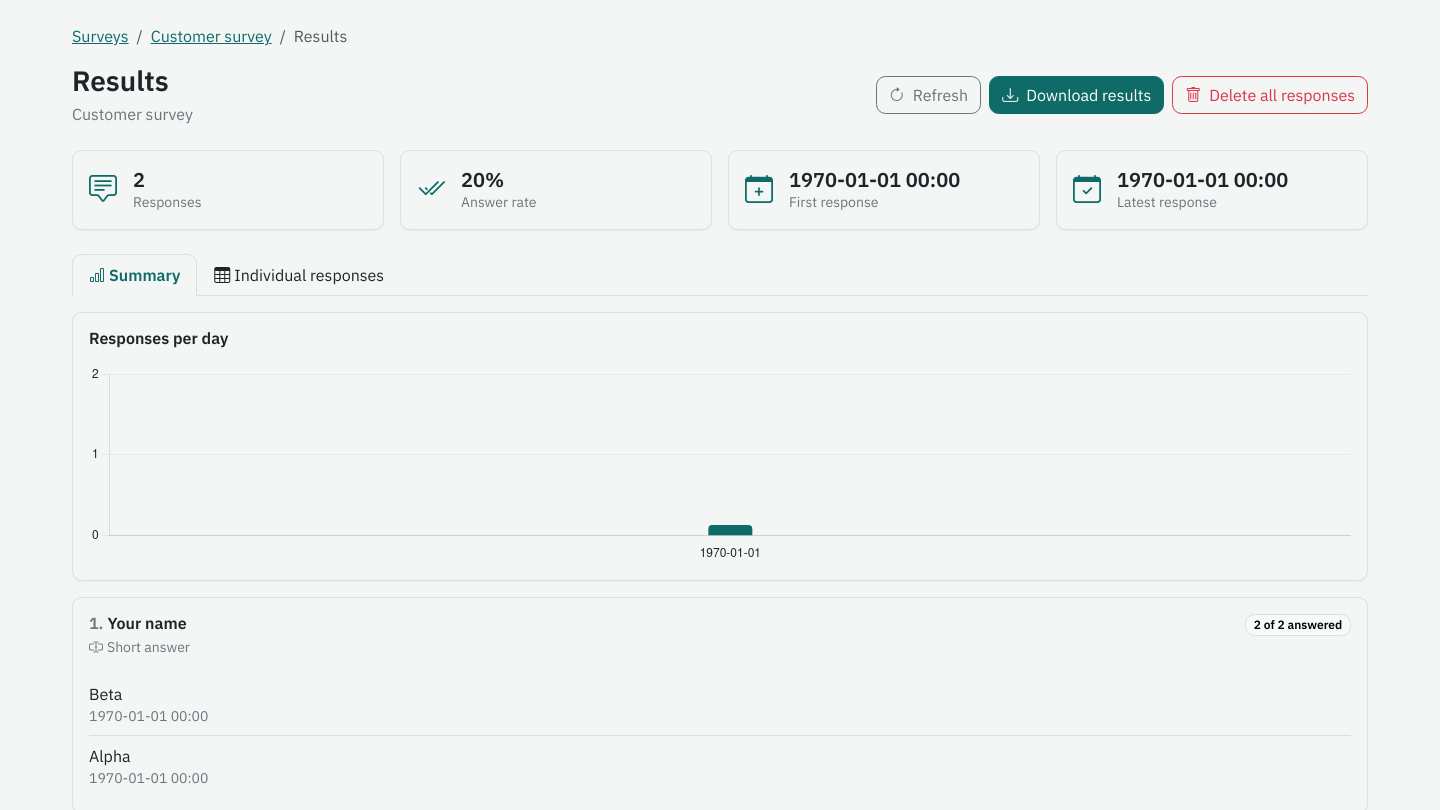
Scenario: SurveyResults download dialog › downloads CSV with the chosen options
Expected: the heading "1.Your name" is shown, [89,614,190,633]
Click the button "Download results".
click(1077, 95)  # box [989,76,1164,114]
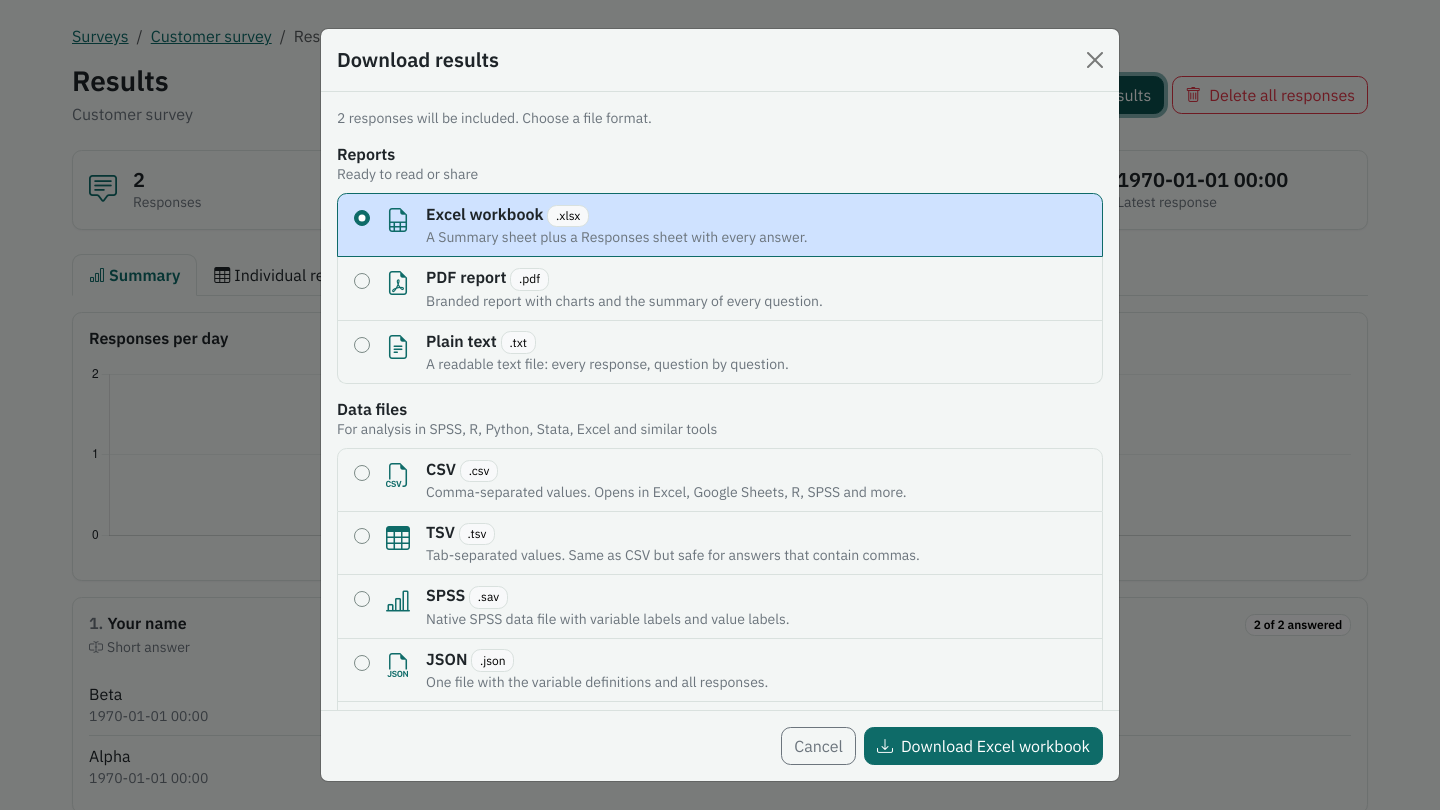
Click the radio button labelled "CSV .csv".
click(362, 473)  # box [354,465,370,481]
(page scrolled)
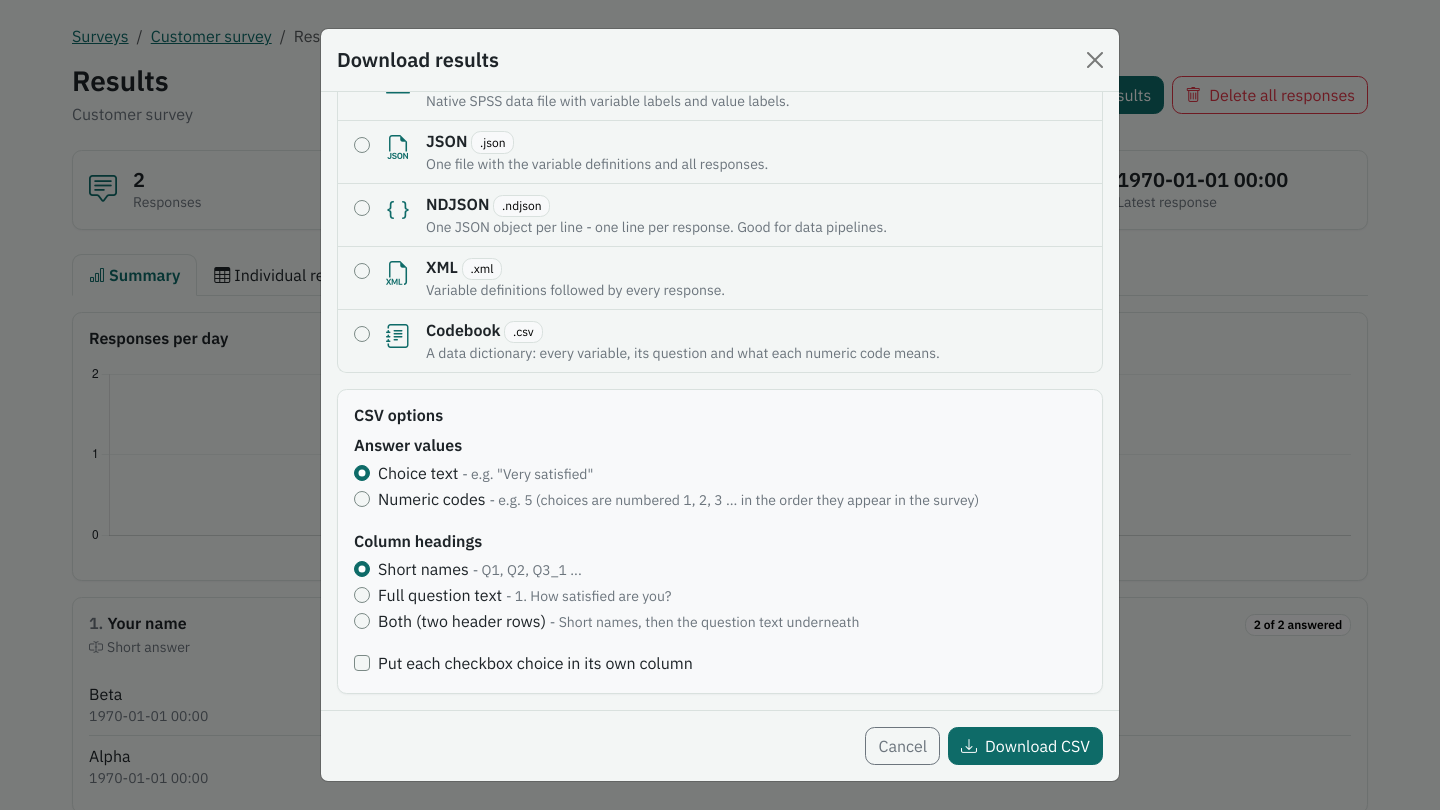
Click the radio button labelled "Numeric codes".
click(362, 499)  # box [354,491,370,507]
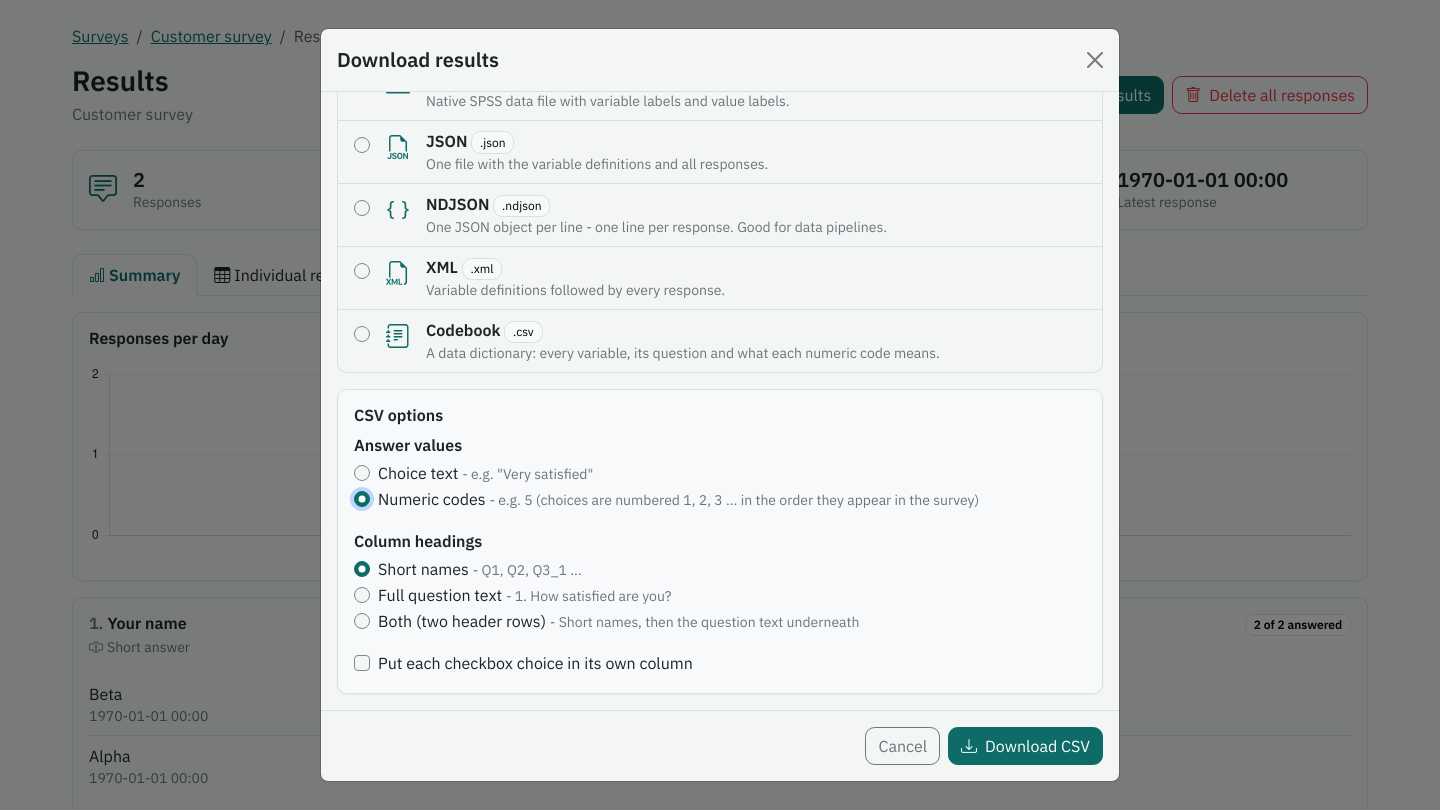
Click the radio button labelled "Both (two header rows)".
click(362, 621)  # box [354,613,370,629]
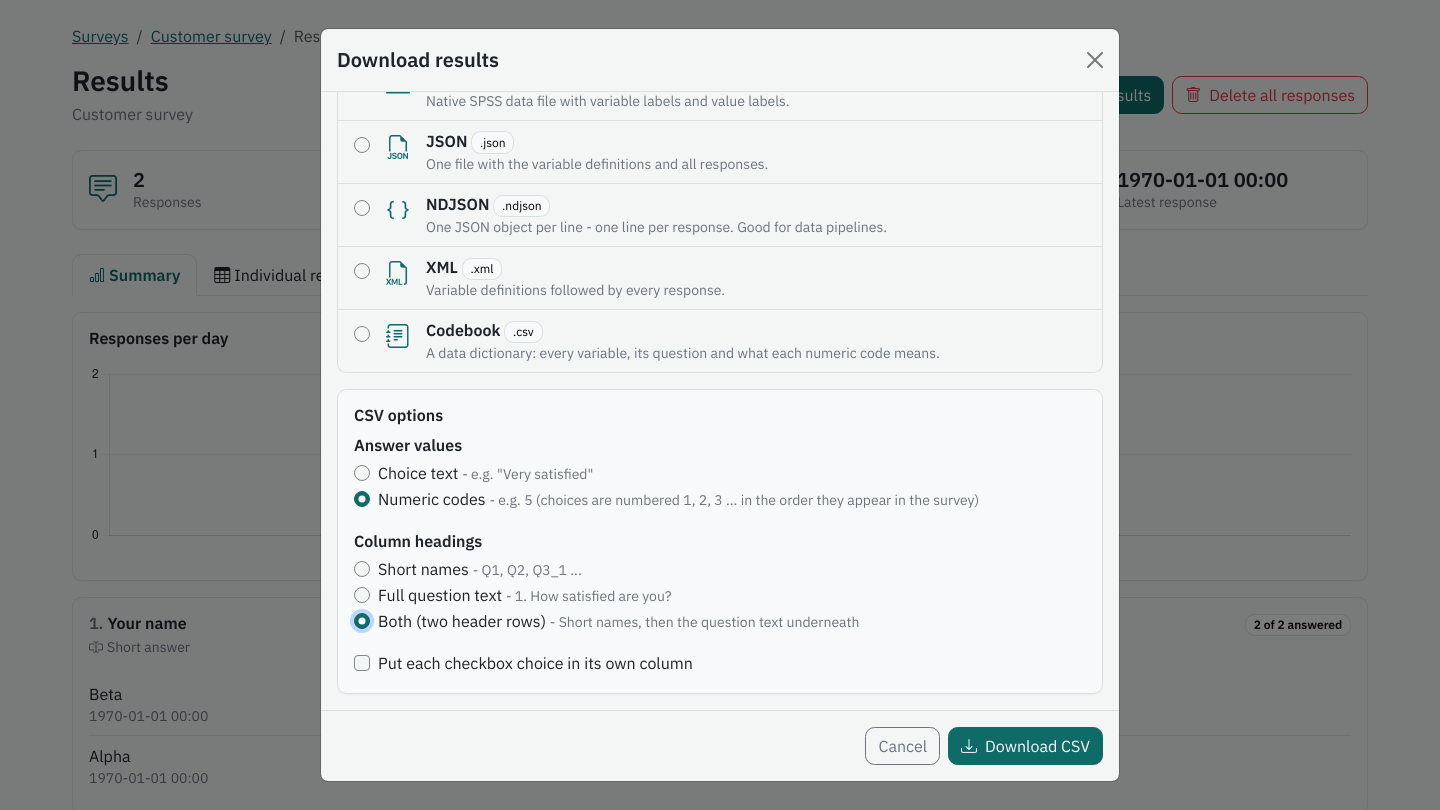
Click the checkbox labelled "Put each checkbox choice in its own column".
click(362, 663)  # box [354,655,370,671]
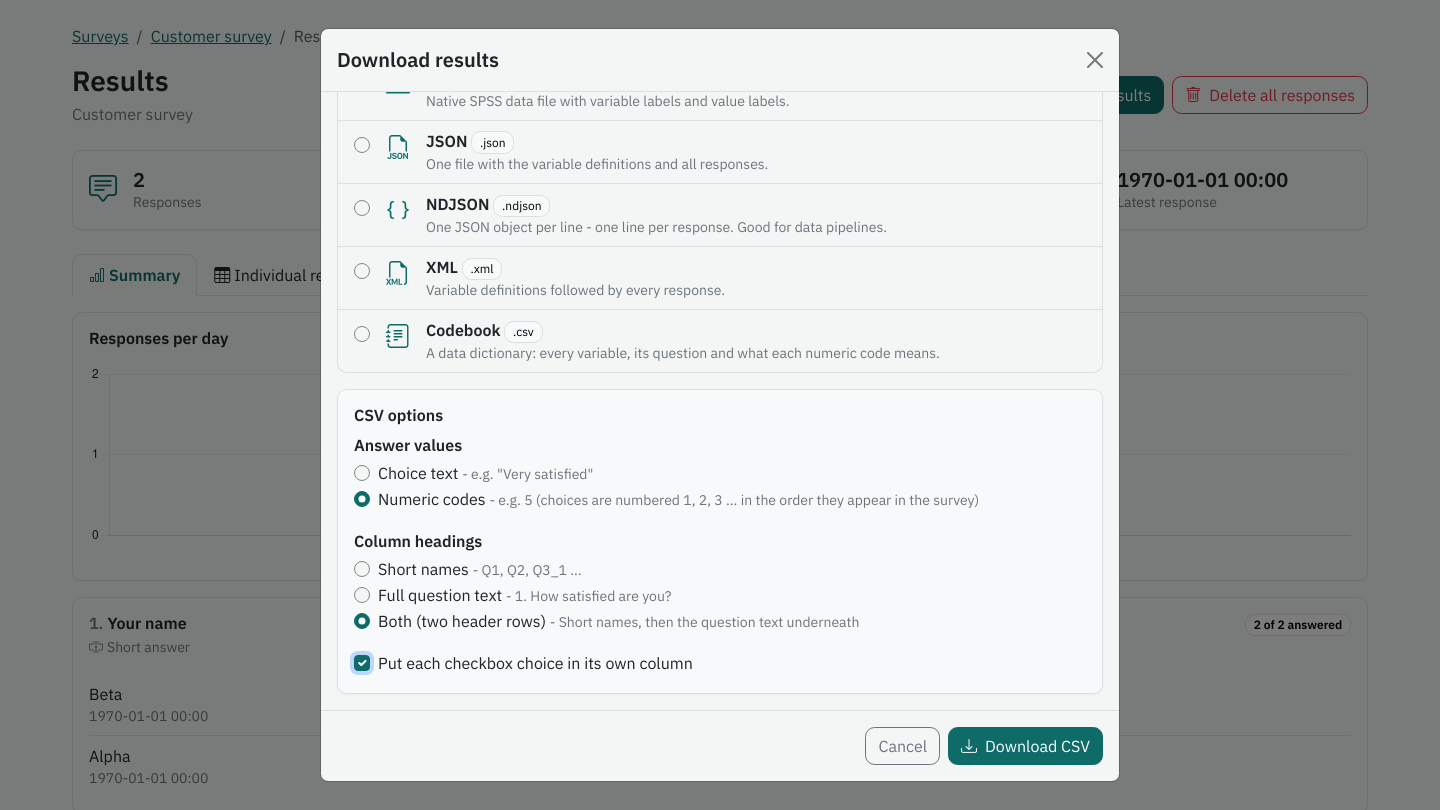
Click the button "Download CSV".
click(1026, 746)  # box [948,727,1103,765]
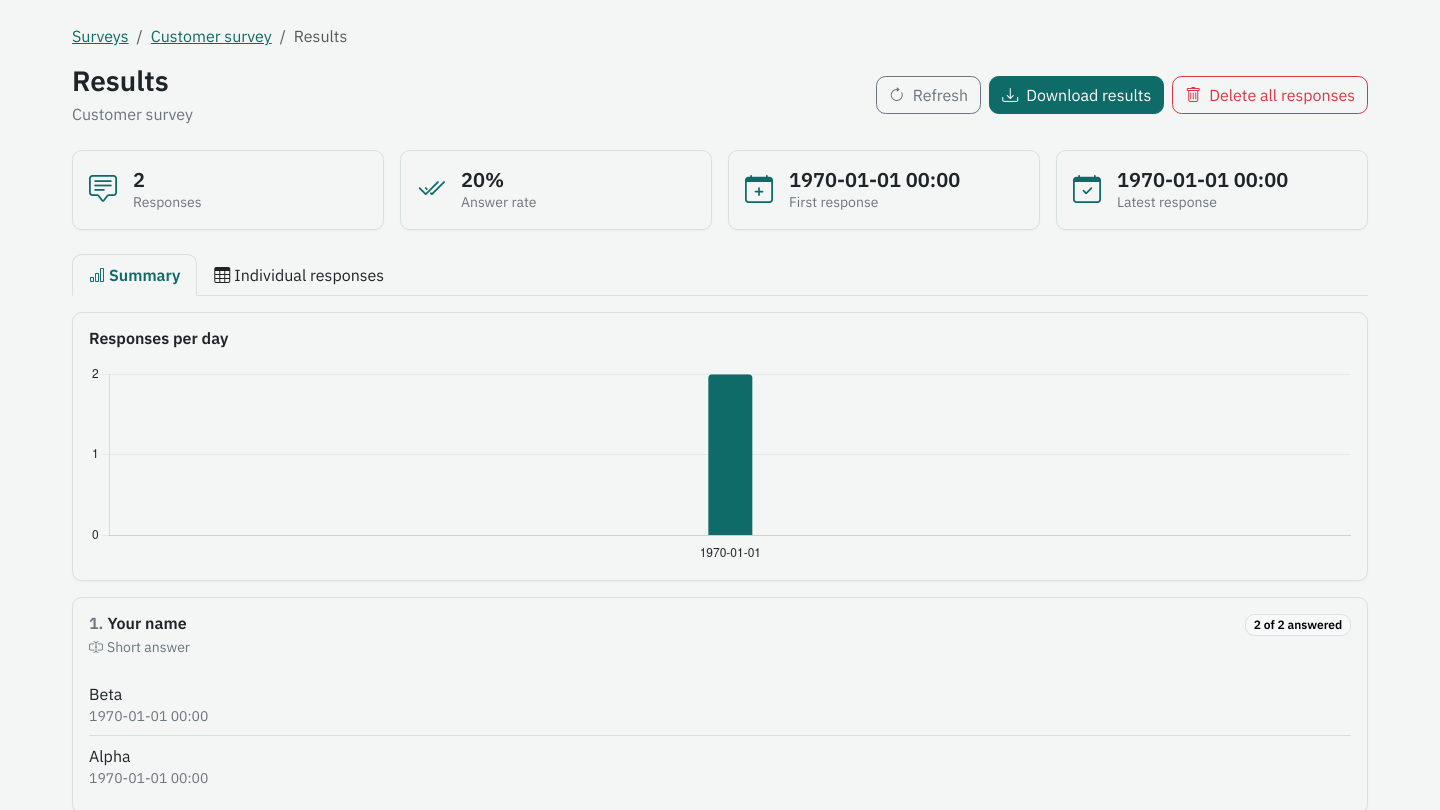
Now the dialog is gone
